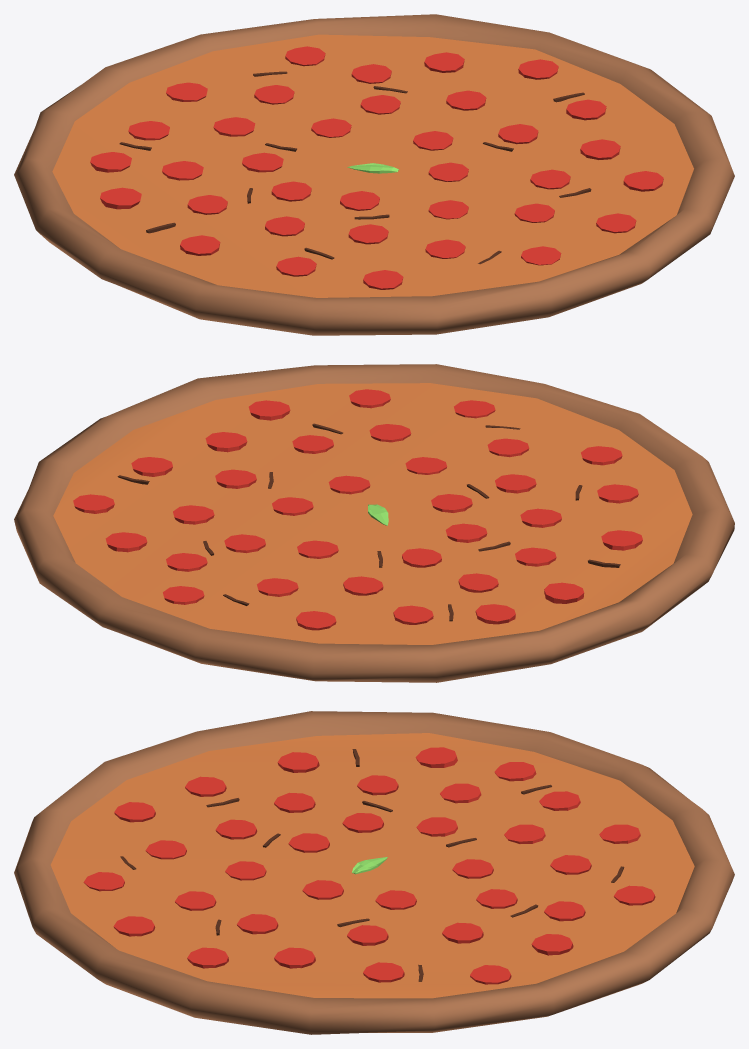
Rendered from Pepperoni.fbx.
The picture shows the model from 3 angles, top to bottom: view 1: azimuth 30°, elevation 25°; view 2: azimuth 150°, elevation 25°; view 3: azimuth 270°, elevation 25°; orthographic projection.
Visible parts, largest first — view 1: Plane; view 2: Plane; view 3: Plane.
Boxes of the visible parts, left/top/right/bottom form: Plane: left=14, top=14, right=734, bottom=335; Plane: left=14, top=364, right=734, bottom=682; Plane: left=14, top=711, right=734, bottom=1034.
Size of the model in its own units: 199 by 10.21 by 201.
